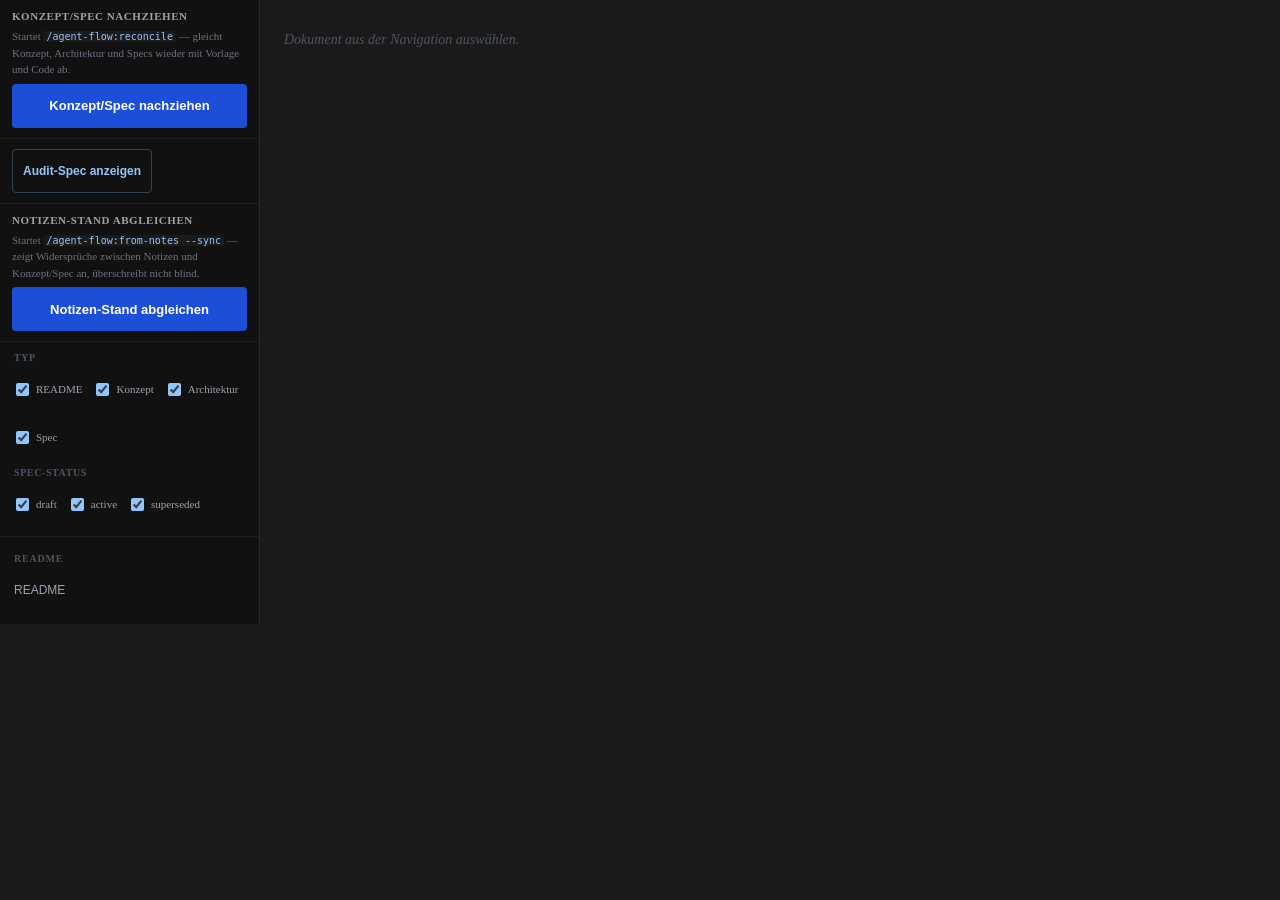
SpecView — obsidian-sync-trigger AC2: Bestätigungsdialog › Klick (Session frei, Vault konfiguriert) öffnet Bestätigungsdialog (role="dialog"); noch kein POST
Click the button with test id "obsidian-sync-btn" at (130, 309), box left=12, top=287, right=247, bottom=331
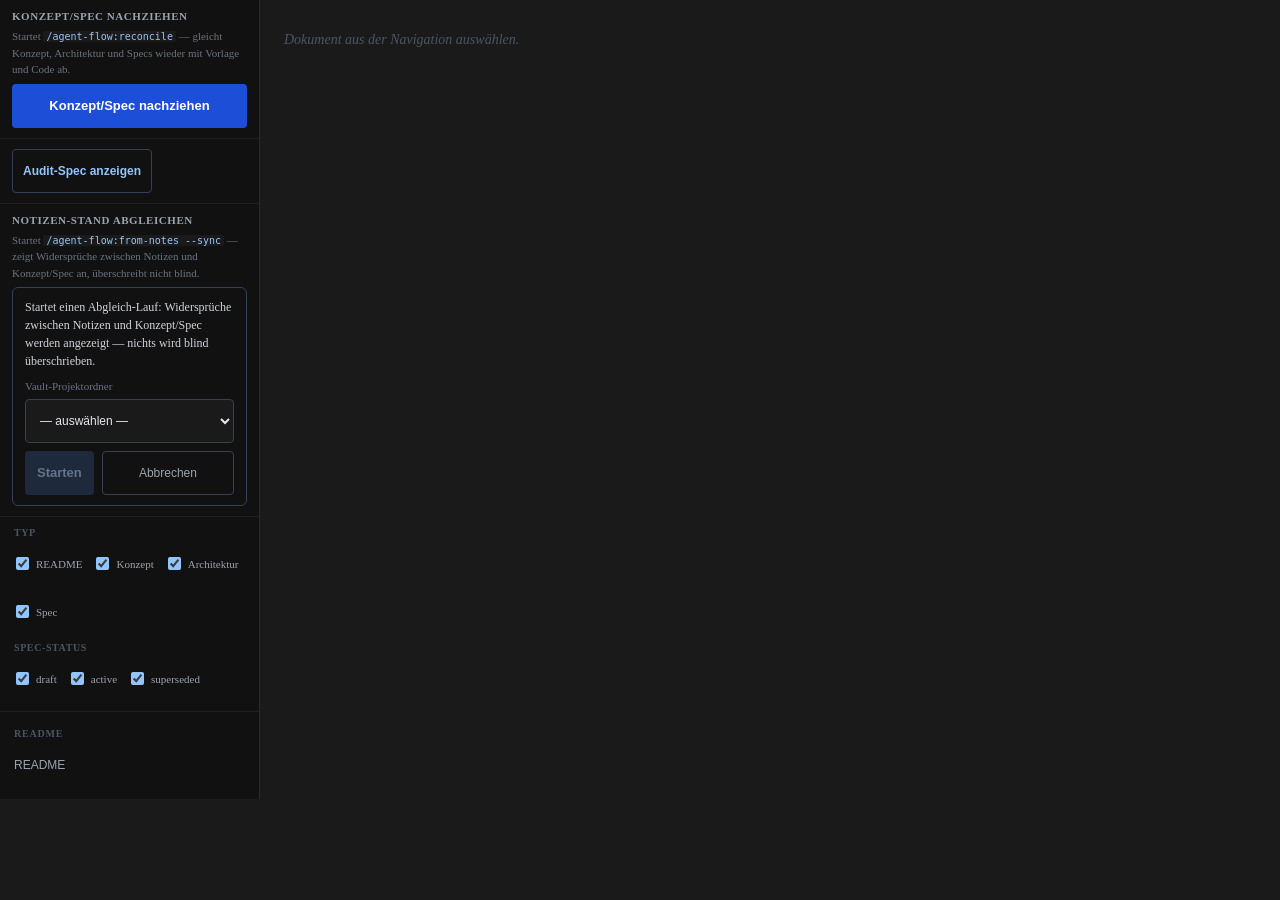
Result: the dialog with test id "obsidian-sync-confirm-dialog" is shown at left=12, top=287, right=247, bottom=506
